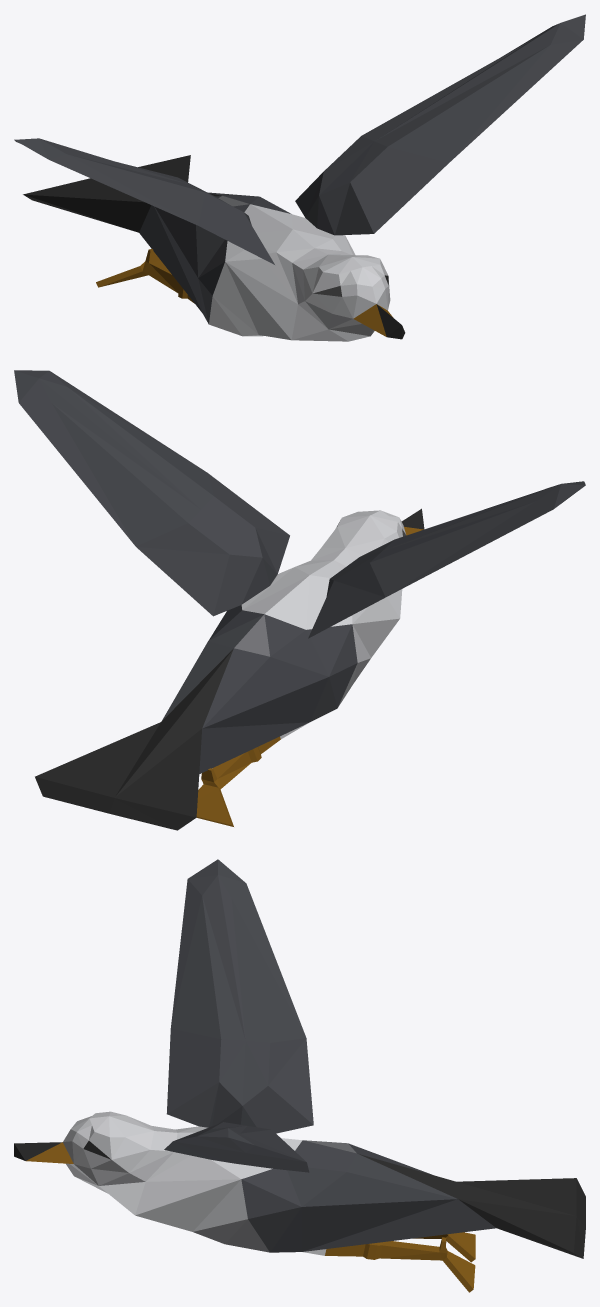
The model's file is gull.glb.
The picture shows the model from 3 angles, top to bottom: view 1: azimuth 30°, elevation 25°; view 2: azimuth 150°, elevation 25°; view 3: azimuth 270°, elevation 25°; orthographic projection. The views are drawn at different scales.
Parts seen in each view (by area): view 1: gull; view 2: gull; view 3: gull.
Boxes of the visible parts, x1,y1,x2,y2 form: gull: (14, 14, 585, 341); gull: (14, 370, 585, 830); gull: (14, 859, 585, 1292).
Size of the model in its own units: 88.47 by 44.24 by 82.16.
